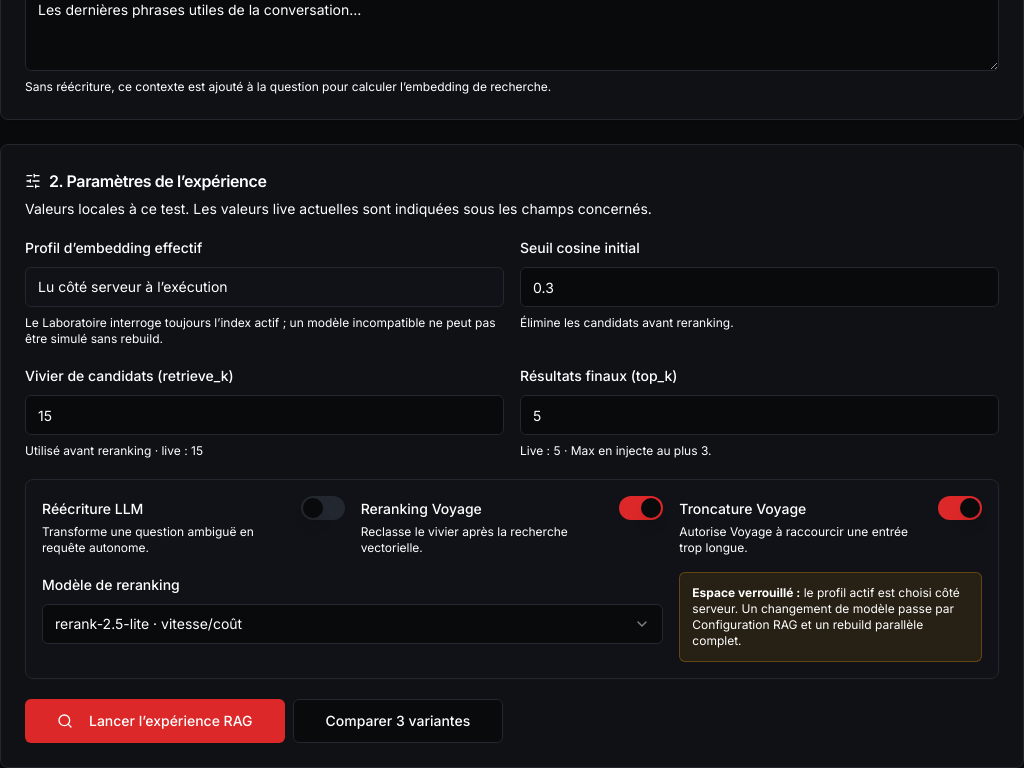
it: RAGLabTab › montre le passage retrieval → reranking → injection pour le personnage sélectionné
(page scrolled)
Click the button "Lancer l’expérience RAG": (155, 721) [25, 699, 285, 743]
(page scrolled)
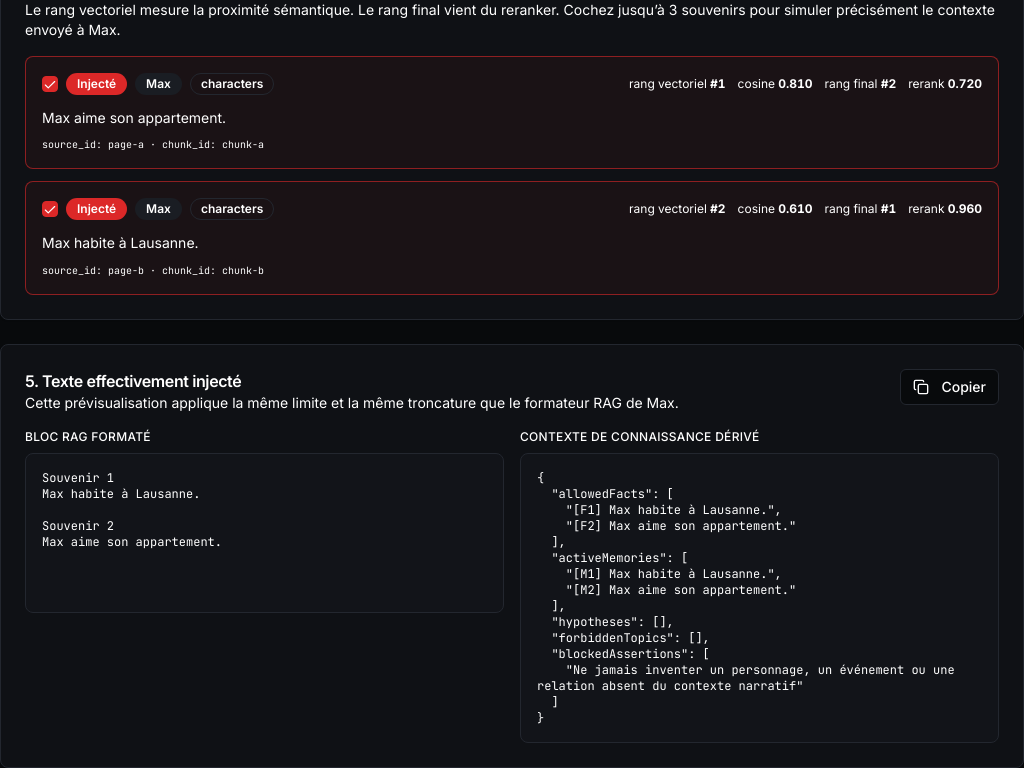
Expected: the text "Max habite à Lausanne." is shown, [42, 234, 199, 251]
Expected: the text "Injecté" is shown 2 times, [66, 72, 127, 94]; [66, 198, 127, 220]
Expected: the text "Souvenir 1" is shown, [42, 470, 222, 550]
